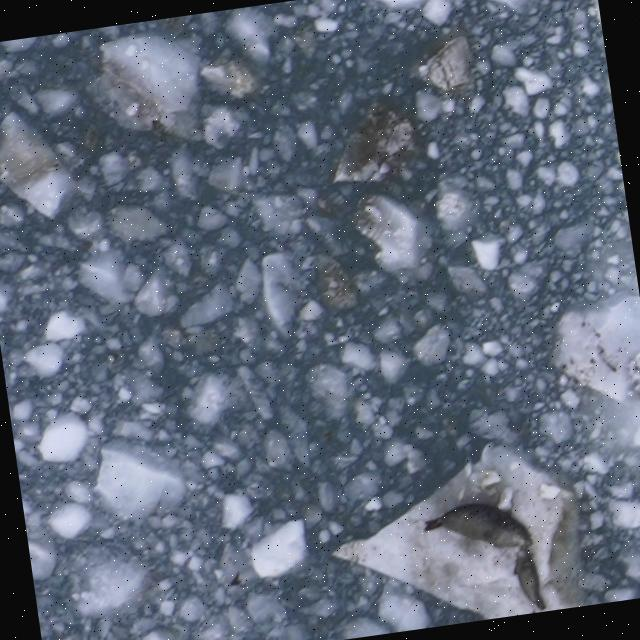seal: (415, 492, 539, 565), (503, 537, 552, 616)
